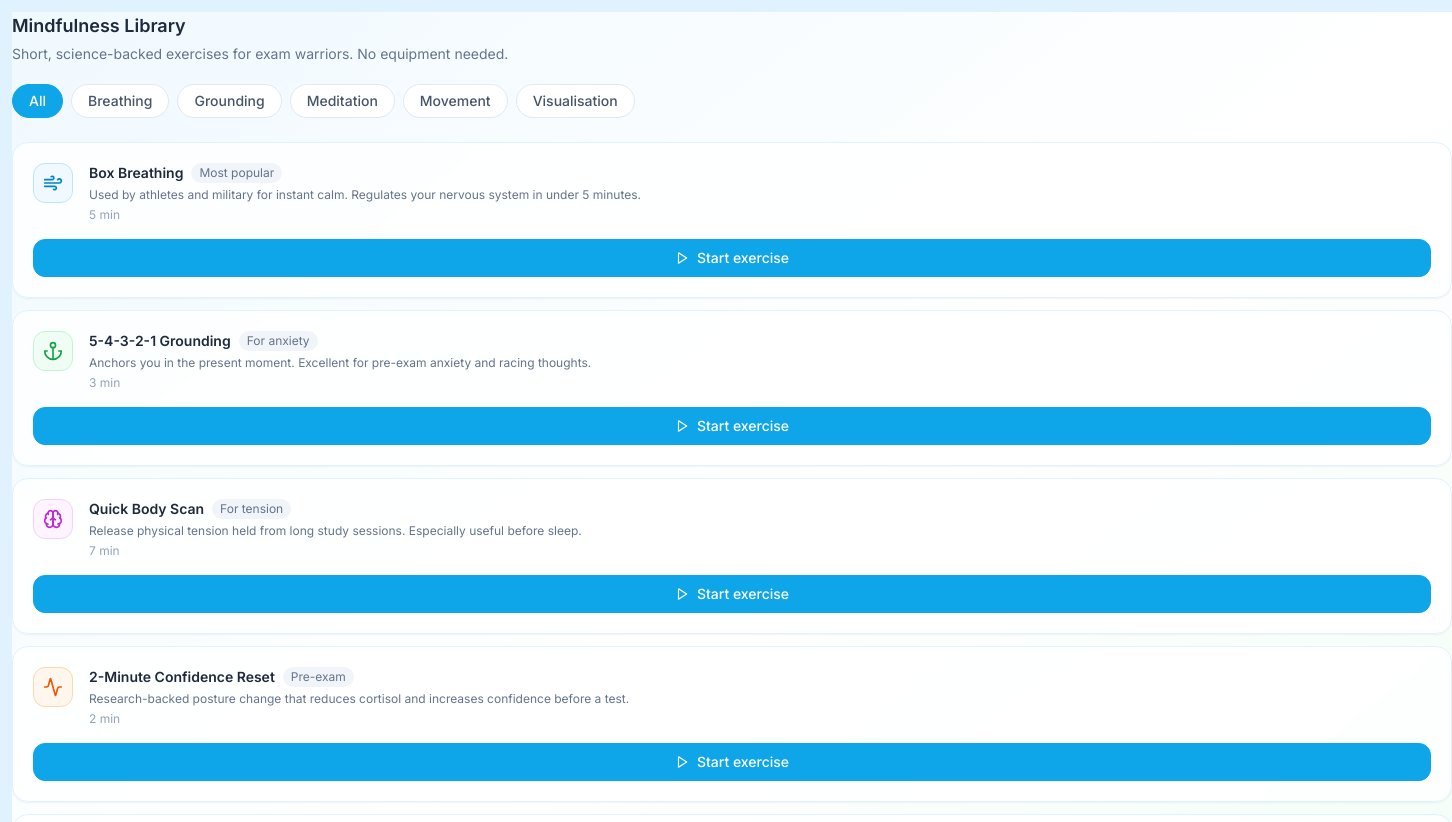
Test: MindfulnessView › shows exercise instructions when Start is clicked
The image size is (1452, 822).
Click the button "Start exercise" below "Box Breathing": (732, 258) [33, 239, 1431, 277]
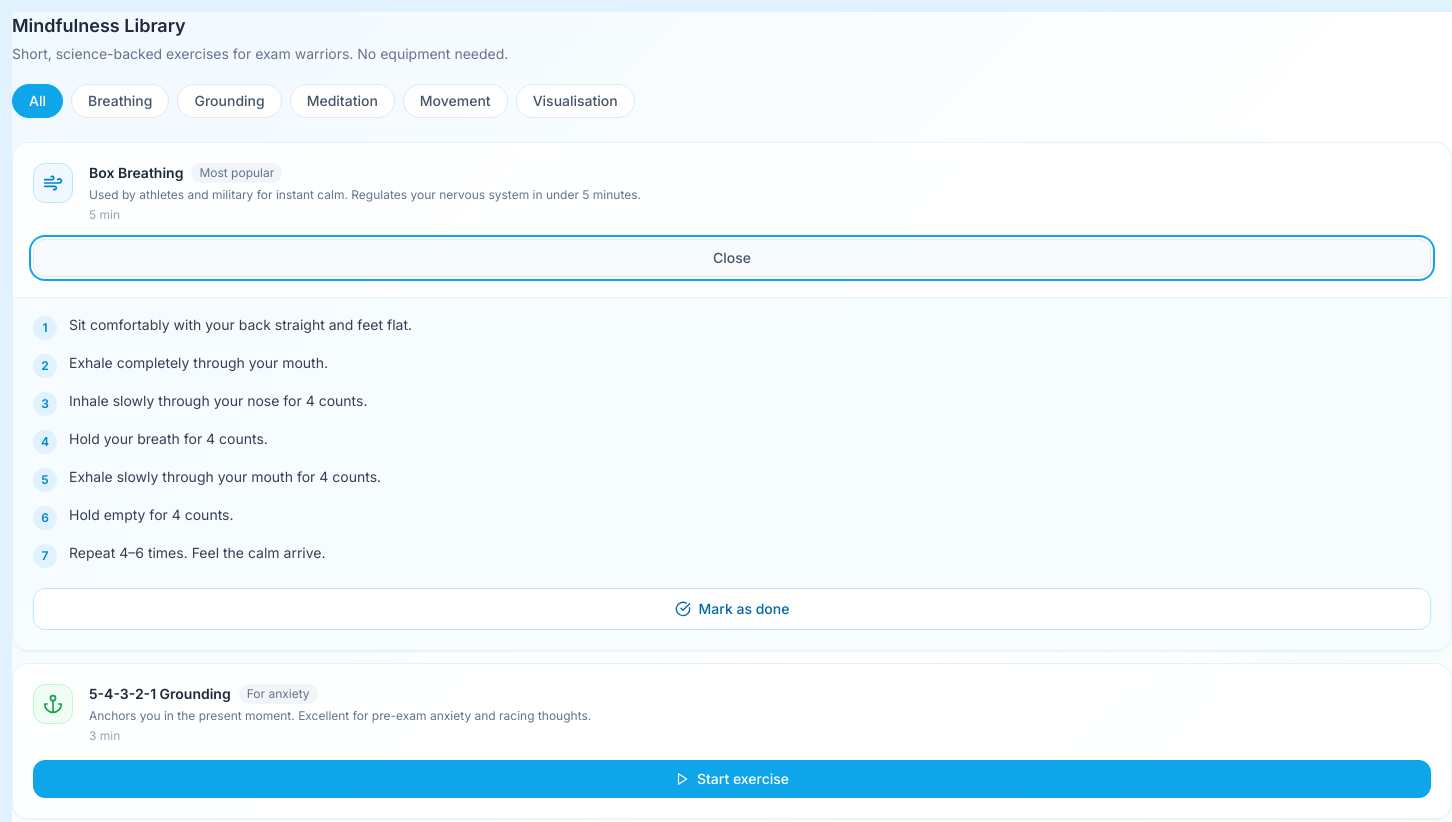
Now the text "Sit comfortably with your back straight and feet flat." is shown, box [69, 314, 412, 340]
